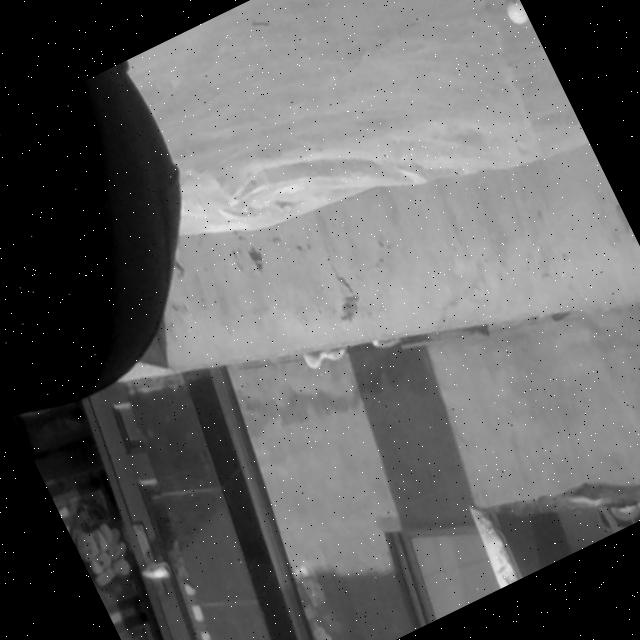ping-pong-ball: (500, 0, 528, 25)
